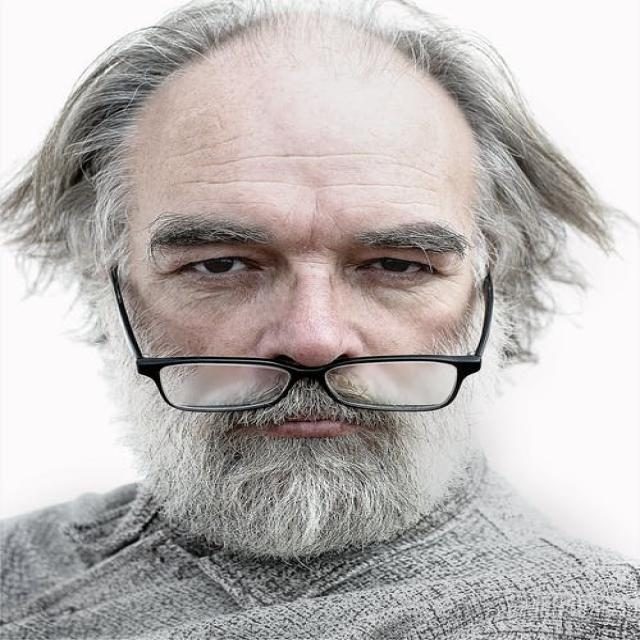Wrinkles: (195, 152, 391, 167), (174, 137, 237, 155), (380, 163, 446, 178), (391, 200, 441, 207), (389, 184, 437, 191), (210, 181, 282, 184), (172, 181, 204, 185), (215, 202, 252, 204), (337, 183, 374, 185), (321, 185, 337, 186)
